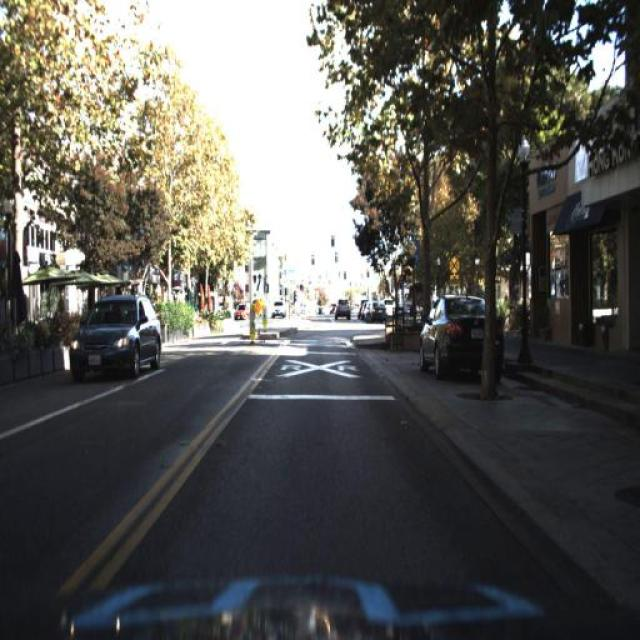car: (65, 284, 165, 384), (411, 291, 498, 380), (363, 296, 386, 328), (334, 295, 354, 327), (230, 301, 250, 328), (269, 299, 287, 322)
trafficLight-RedLeft: (326, 232, 336, 252)
